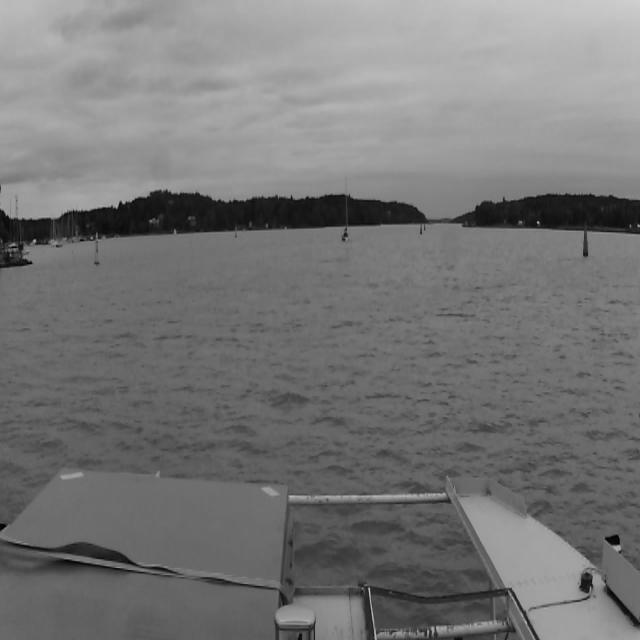buoy: (93, 232, 100, 265), (582, 221, 588, 257), (420, 222, 422, 236)
ship: (341, 173, 351, 243)
